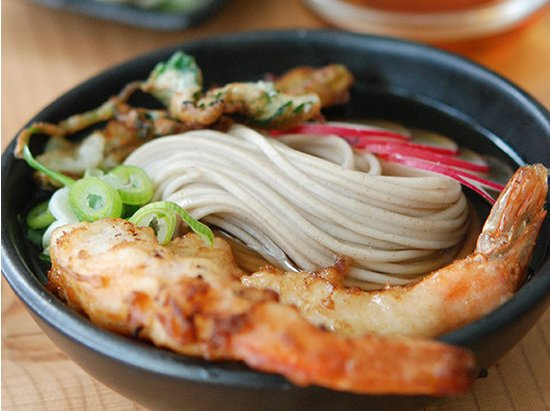Soba: (127, 119, 470, 295)
